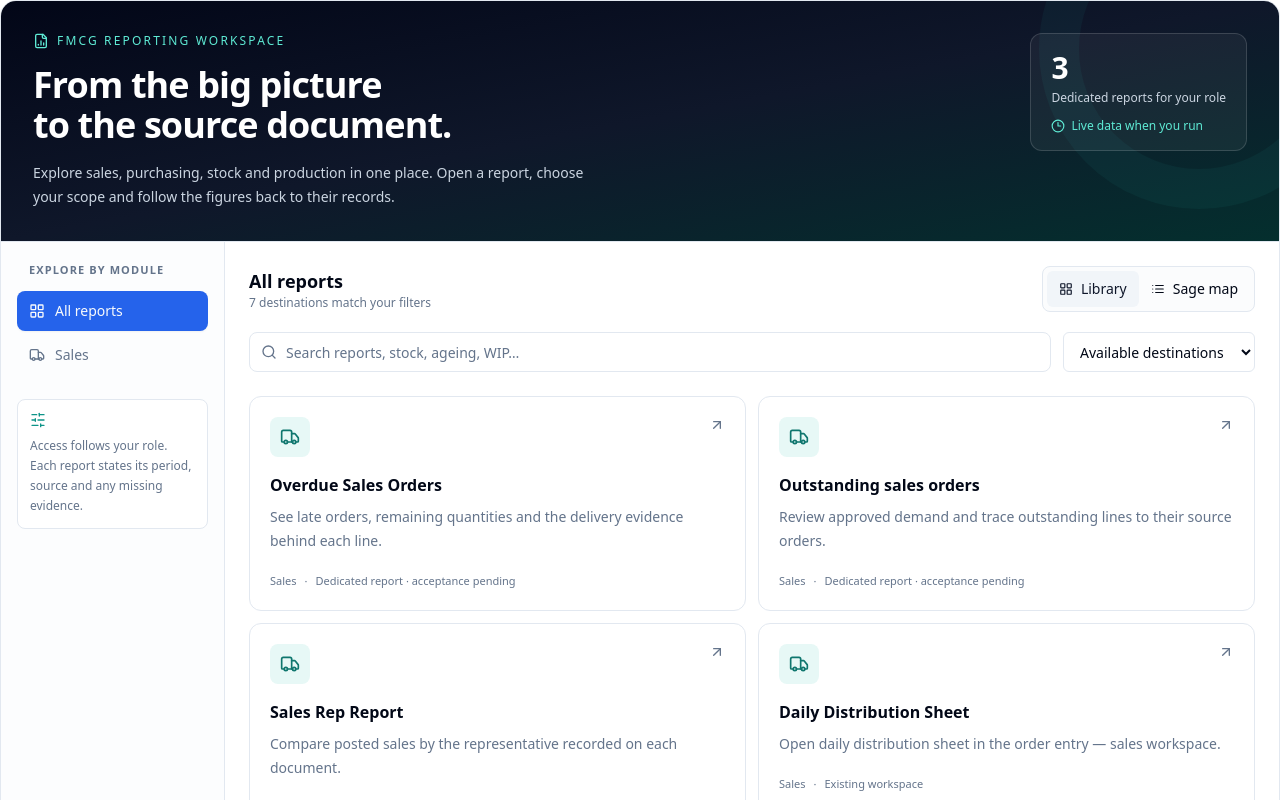
FMCG reporting workspace › shows reports permitted by all source modules and filters them by module/search
In the field named "Search FMCG reports": (650, 352) [249,332,1051,372], type "overdue"
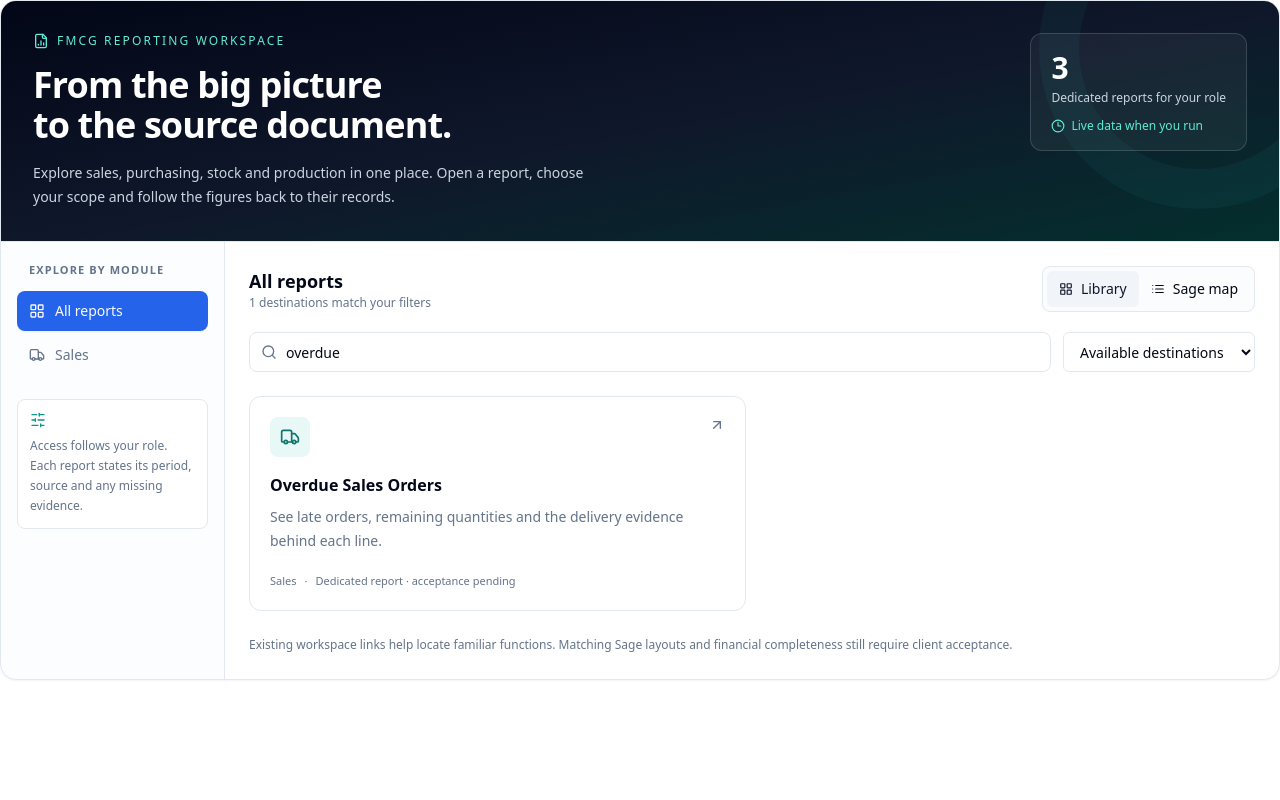
Expected: the link "Overdue Sales Orders" is shown, [249,396,746,610]
Now the link "Sales Rep Report" is gone
